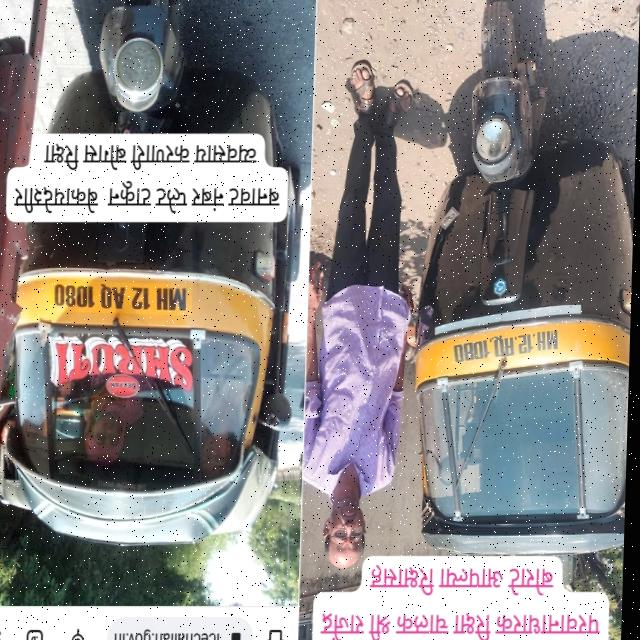plate: (46, 271, 199, 322), (451, 322, 568, 372)
